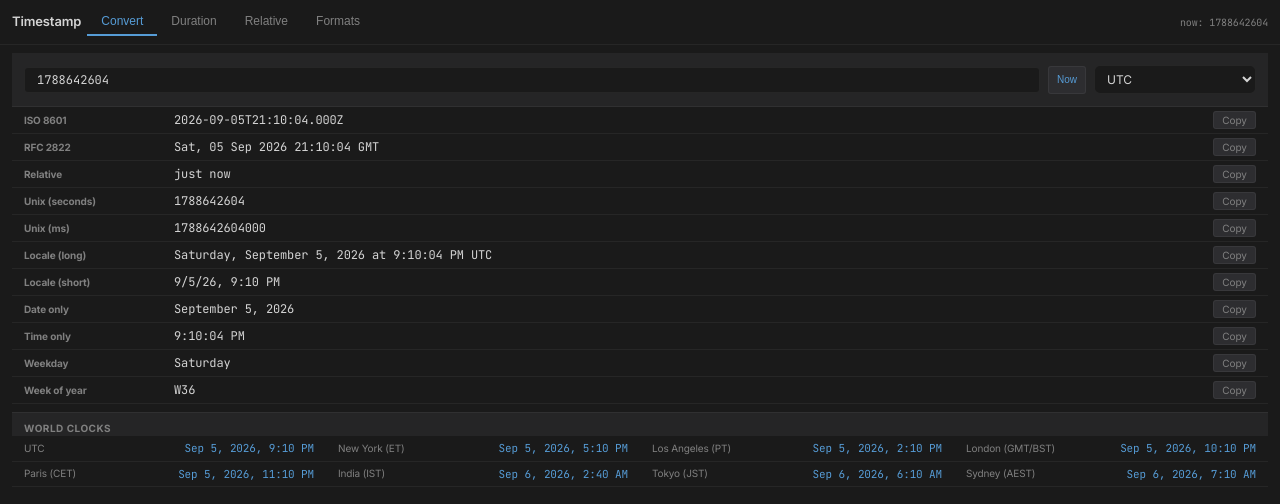
Test: TimestampPanel — conversion › Given a negative millisecond timestamp, then unit detection preserves pre-epoch dates
Replace the text in the field with placeholder "Unix timestamp or ISO date string…" with "-2208988800000" at (532, 80), box [24,66,1040,92]
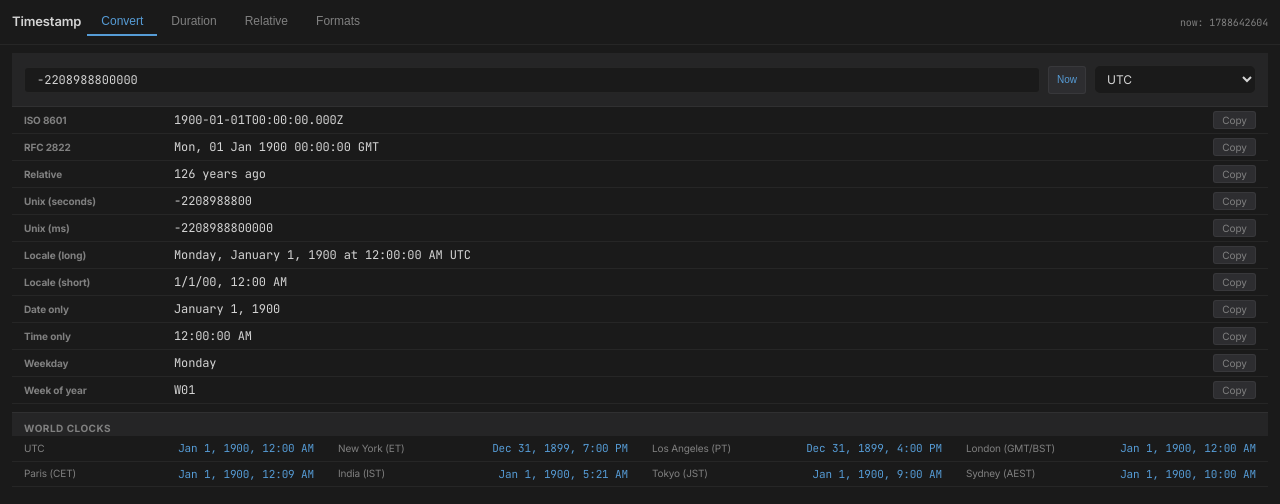
Result: the text "1900-01-01T00:00:00.000Z" is shown at [174,112,344,128]
